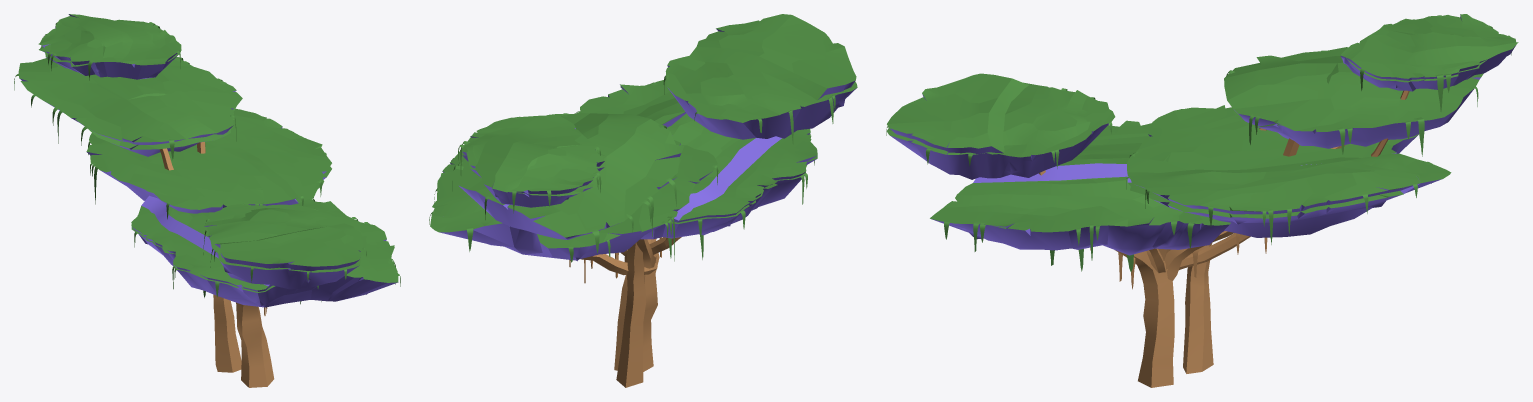
File: tree_canopy_C.fbx
3 renders of one model, left to right at view 1: azimuth 30°, elevation 25°; view 2: azimuth 150°, elevation 25°; view 3: azimuth 270°, elevation 25°, orthographic. The views are drawn at different scales.
Visible parts, largest first — view 1: tree_C_canopy_B, tree_C_canopy_C_C, tree_C_canopy_A_leveled, tree_C_canopy_E, tree_C_canopy_D_leveled, tree_C_canopy_D, tree_C_canopy_trunks_bottom_A, tree_C_canopy_A, tree_C_canopy_trunks_bottom_B, tree_C_canopy_C_leveled, tree_C_canopy_B_leveled, tree_C_canopy_E_leveled; view 2: tree_C_canopy_C_C, tree_C_canopy_A_leveled, tree_C_canopy_D_leveled, tree_C_canopy_B, tree_C_canopy_D, tree_C_canopy_E, tree_C_canopy_trunks_bottom_B, tree_C_canopy_A, tree_C_canopy_E_leveled, tree_C_canopy_trunks_bottom_A, tree_C_canopy_trunks_bottom_C; view 3: tree_C_canopy_B, tree_C_canopy_A_leveled, tree_C_canopy_C_C, tree_C_canopy_D_leveled, tree_C_canopy_D, tree_C_canopy_E, tree_C_canopy_B_leveled, tree_C_canopy_trunks_bottom_A, tree_C_canopy_A, tree_C_canopy_trunks_bottom_B, tree_C_canopy_E_leveled, tree_C_canopy_C_leveled (+2 smaller).
Part boxes in pixels (<box>): tree_C_canopy_B: <box>86,108,331,213</box>; tree_C_canopy_C_C: <box>18,57,242,156</box>; tree_C_canopy_A_leveled: <box>131,195,398,307</box>; tree_C_canopy_E: <box>38,14,181,79</box>; tree_C_canopy_D_leveled: <box>208,212,366,271</box>; tree_C_canopy_D: <box>204,204,366,289</box>; tree_C_canopy_trunks_bottom_A: <box>236,302,274,387</box>; tree_C_canopy_A: <box>131,225,394,304</box>; tree_C_canopy_trunks_bottom_B: <box>213,294,241,372</box>; tree_C_canopy_C_leveled: <box>87,78,236,149</box>; tree_C_canopy_B_leveled: <box>192,141,331,204</box>; tree_C_canopy_E_leveled: <box>39,19,181,75</box>; tree_C_canopy_C_C: <box>450,113,684,239</box>; tree_C_canopy_A_leveled: <box>580,79,817,238</box>; tree_C_canopy_D_leveled: <box>667,14,856,110</box>; tree_C_canopy_B: <box>430,114,717,261</box>; tree_C_canopy_D: <box>665,56,857,139</box>; tree_C_canopy_E: <box>462,114,604,207</box>; tree_C_canopy_trunks_bottom_B: <box>616,243,646,387</box>; tree_C_canopy_A: <box>620,86,817,239</box>; tree_C_canopy_E_leveled: <box>462,143,604,207</box>; tree_C_canopy_trunks_bottom_A: <box>614,238,659,371</box>; tree_C_canopy_trunks_bottom_C: <box>580,254,657,275</box>; tree_C_canopy_B: <box>1127,105,1451,237</box>; tree_C_canopy_A_leveled: <box>930,120,1230,255</box>; tree_C_canopy_C_C: <box>1224,47,1483,148</box>; tree_C_canopy_D_leveled: <box>887,73,1073,177</box>; tree_C_canopy_D: <box>887,82,1115,179</box>; tree_C_canopy_E: <box>1340,14,1518,81</box>; tree_C_canopy_B_leveled: <box>1127,150,1420,224</box>; tree_C_canopy_trunks_bottom_A: <box>1115,250,1174,387</box>; tree_C_canopy_A: <box>993,176,1142,228</box>; tree_C_canopy_trunks_bottom_B: <box>1183,242,1213,373</box>; tree_C_canopy_E_leveled: <box>1346,31,1514,91</box>; tree_C_canopy_C_leveled: <box>1232,63,1378,132</box>.
Size of the model in its own units: 638 by 782 by 1395.
